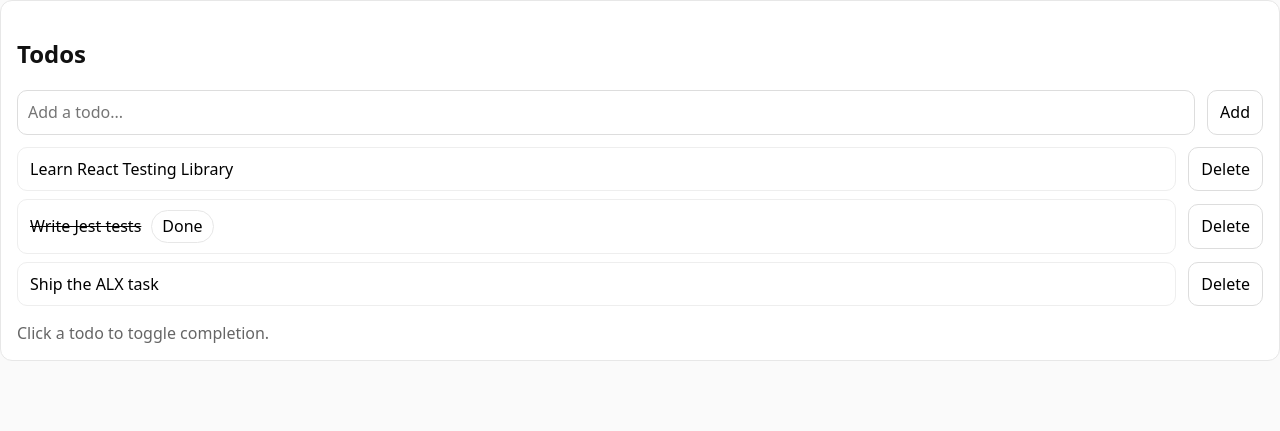
Test case: TodoList › adds a new todo
This screenshot has width=1280, height=431.
Type "New item" into the field named "New todo" at (606, 113), box [17,90,1195,135]
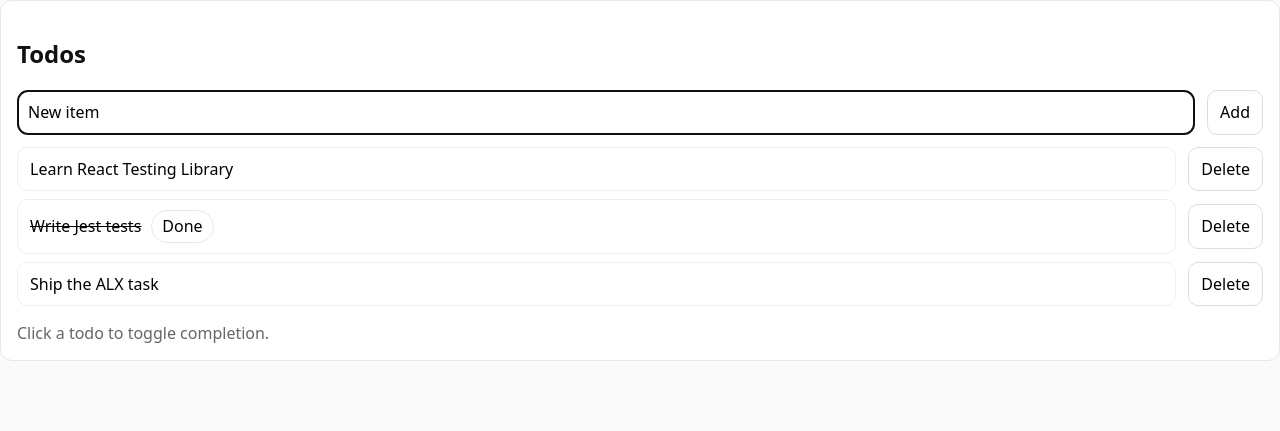
Click the button "Add" at (1235, 113), box [1207,90,1263,135]
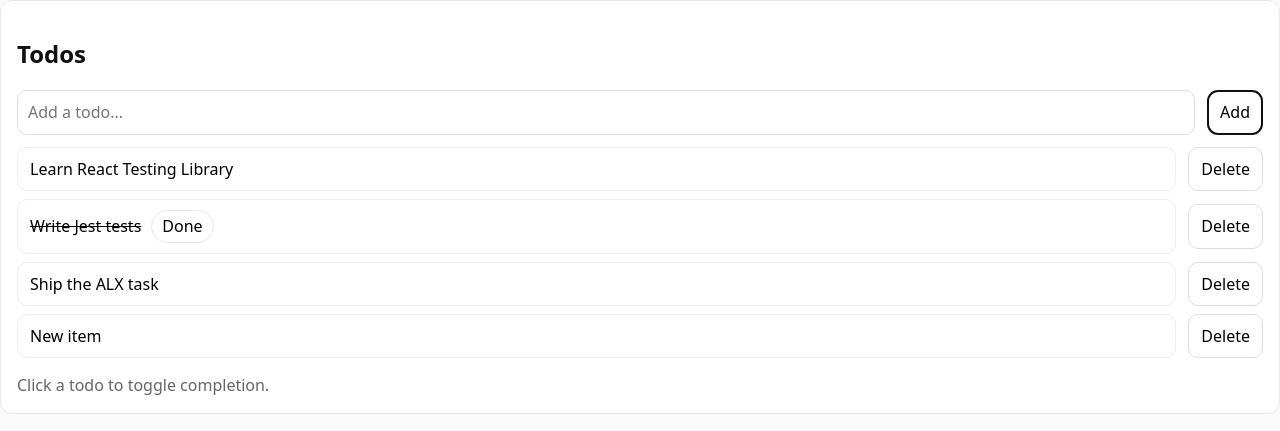
expect the text "New item" is shown: met, box [30,325,102,347]
